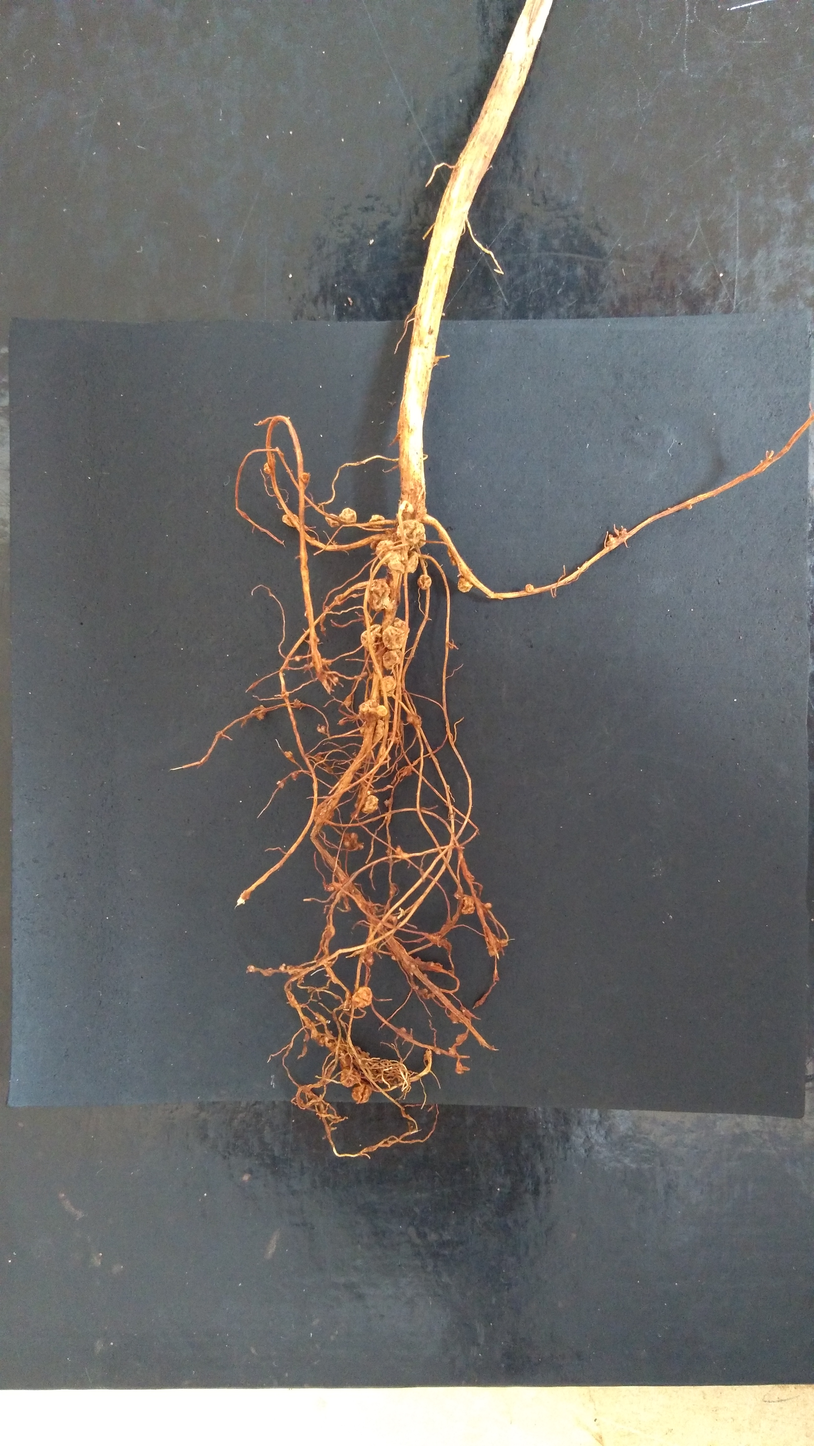nodule: (396, 519, 426, 548), (374, 539, 403, 567), (367, 579, 390, 612), (358, 698, 388, 723), (360, 719, 385, 744), (360, 624, 382, 652), (382, 625, 405, 650), (485, 931, 508, 956), (354, 792, 379, 814), (340, 1065, 363, 1088), (313, 802, 334, 826), (351, 1082, 373, 1104), (352, 986, 373, 1008), (381, 650, 403, 670), (379, 674, 397, 698), (402, 549, 419, 573), (343, 832, 364, 850), (327, 1036, 346, 1054), (338, 507, 357, 524), (460, 895, 476, 915), (457, 575, 473, 593), (392, 617, 410, 633), (360, 946, 375, 965), (282, 513, 299, 528), (369, 514, 385, 529), (317, 1030, 332, 1046), (388, 728, 402, 745), (387, 560, 405, 573), (384, 528, 399, 543), (325, 514, 341, 528), (342, 990, 353, 1010), (399, 500, 414, 514), (418, 574, 432, 589), (323, 924, 337, 939), (455, 1060, 470, 1074), (286, 964, 305, 975), (379, 747, 391, 764), (395, 845, 409, 859), (449, 1011, 464, 1024), (339, 1057, 353, 1070), (365, 900, 377, 915), (325, 882, 342, 892), (453, 886, 464, 900), (455, 1032, 469, 1043), (395, 512, 405, 526), (316, 751, 325, 766), (333, 594, 344, 606), (263, 461, 272, 475), (344, 694, 353, 708), (606, 534, 616, 546), (396, 907, 405, 920), (370, 540, 381, 550), (301, 472, 310, 484), (333, 856, 342, 868), (618, 528, 628, 538), (284, 750, 294, 759), (290, 771, 299, 781), (390, 953, 400, 962), (293, 698, 301, 709), (389, 885, 397, 896), (276, 780, 285, 789), (448, 1046, 457, 1055), (525, 584, 534, 593), (450, 556, 458, 566), (483, 902, 493, 910), (317, 725, 326, 733), (246, 964, 255, 972), (383, 798, 390, 807), (279, 962, 286, 971), (447, 547, 453, 557), (360, 671, 368, 678), (256, 713, 264, 720), (409, 962, 416, 969), (326, 658, 332, 666), (295, 655, 301, 662), (333, 676, 339, 683), (338, 719, 345, 725), (400, 1026, 406, 1033), (434, 1049, 441, 1055), (686, 504, 693, 510), (305, 1032, 309, 1042), (315, 636, 320, 643), (303, 664, 310, 669), (412, 985, 419, 990), (324, 606, 329, 612), (258, 705, 265, 709), (423, 988, 428, 993), (423, 972, 428, 977), (353, 675, 358, 680), (281, 691, 286, 694), (367, 790, 370, 795), (281, 453, 284, 456)
